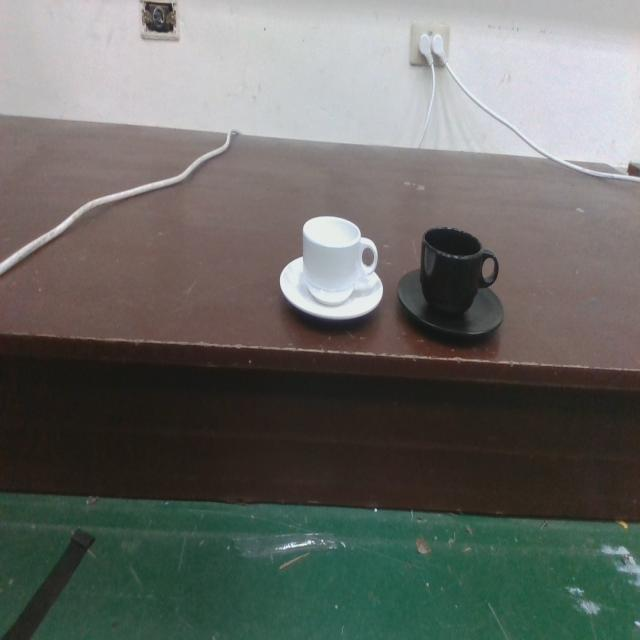black: (394, 222, 506, 343)
white: (277, 212, 386, 325)
